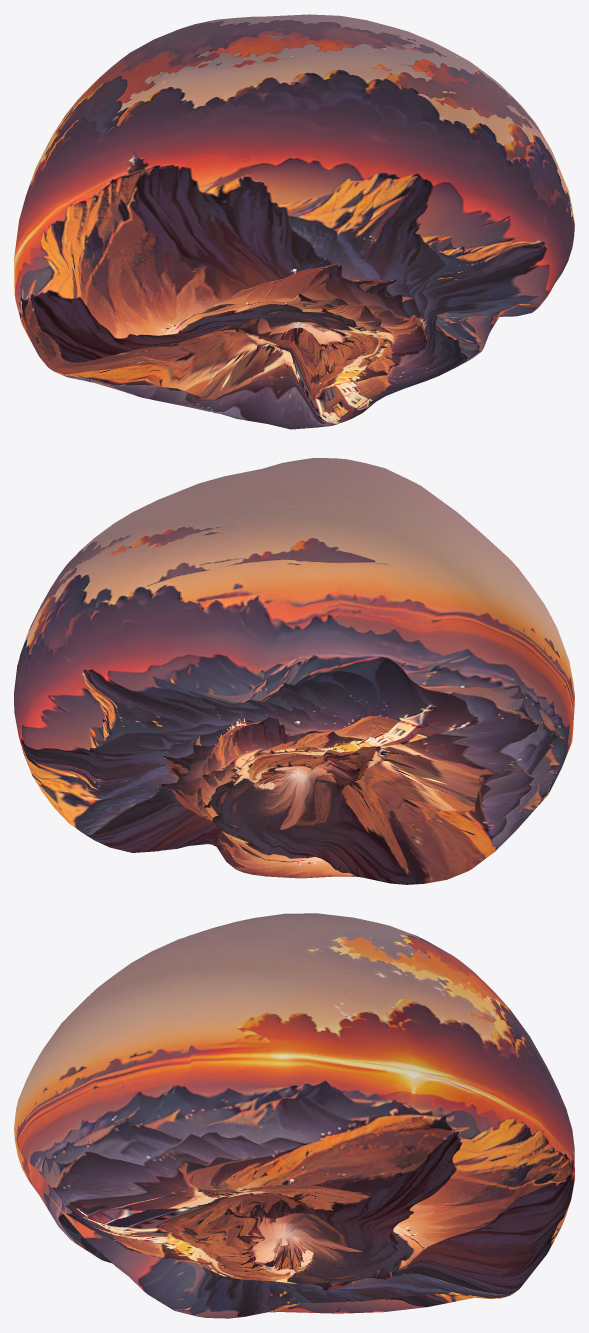
Rendered from sd_sky_230315c.glb.
3 views of the same model, one above another, from view 1: azimuth 30°, elevation 25°; view 2: azimuth 150°, elevation 25°; view 3: azimuth 270°, elevation 25° (orthographic). The views are drawn at different scales.
Parts seen in each view (by area): view 1: Object_2; view 2: Object_2; view 3: Object_2.
Boxes of the visible parts, <box> form: Object_2: <box>14,14,574,429</box>; Object_2: <box>14,458,574,884</box>; Object_2: <box>14,913,574,1318</box>.
Bounding box in the file's own units: 228 × 149 × 223.
2 materials, 1 textured.
